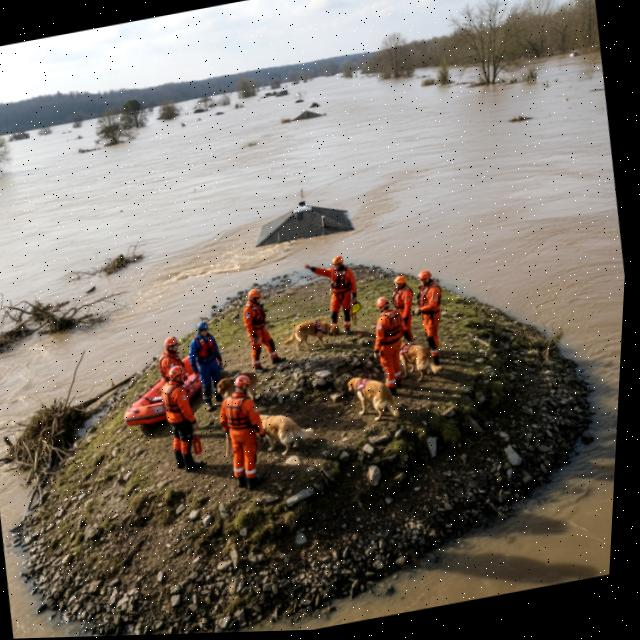dog: (336, 363, 409, 431), (251, 402, 324, 465), (281, 311, 354, 364), (393, 332, 446, 391), (213, 370, 266, 407)
rescuer: (212, 368, 274, 497), (299, 244, 377, 341), (148, 356, 210, 478), (230, 278, 294, 380), (362, 289, 417, 398), (182, 313, 238, 413), (406, 262, 455, 370), (386, 268, 425, 354), (152, 332, 192, 396)
